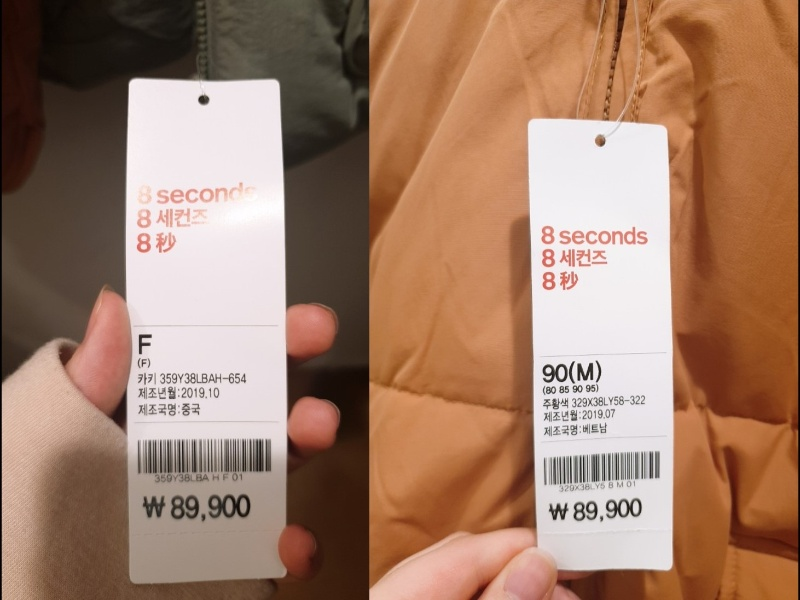tag: (122, 78, 293, 582), (527, 117, 675, 573)
text: (140, 490, 252, 522), (132, 179, 258, 205), (546, 495, 648, 525), (539, 224, 650, 248), (134, 204, 210, 230), (136, 383, 225, 401), (541, 248, 610, 271), (539, 357, 602, 382), (152, 471, 246, 486), (157, 371, 249, 386), (137, 399, 201, 418), (133, 229, 179, 254), (568, 395, 650, 409), (543, 408, 620, 422), (539, 271, 580, 293), (541, 380, 601, 393), (544, 423, 609, 435), (541, 393, 572, 411), (134, 331, 154, 354), (136, 368, 157, 386)
